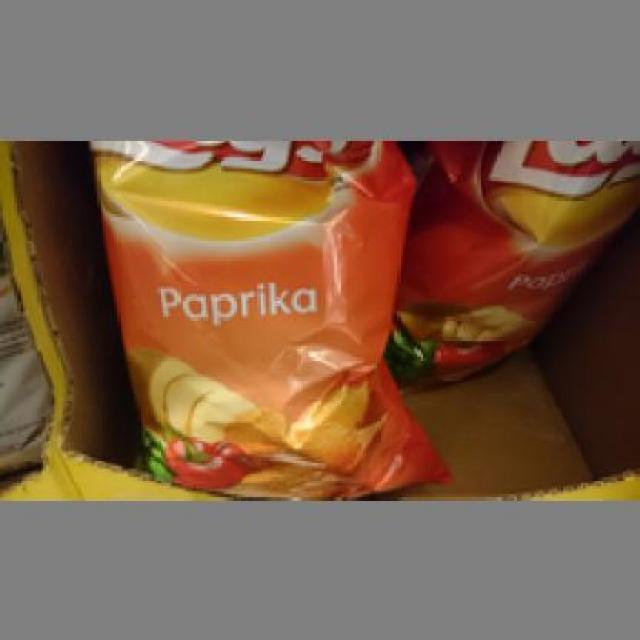Chips: (86, 140, 446, 489), (402, 140, 638, 386)
